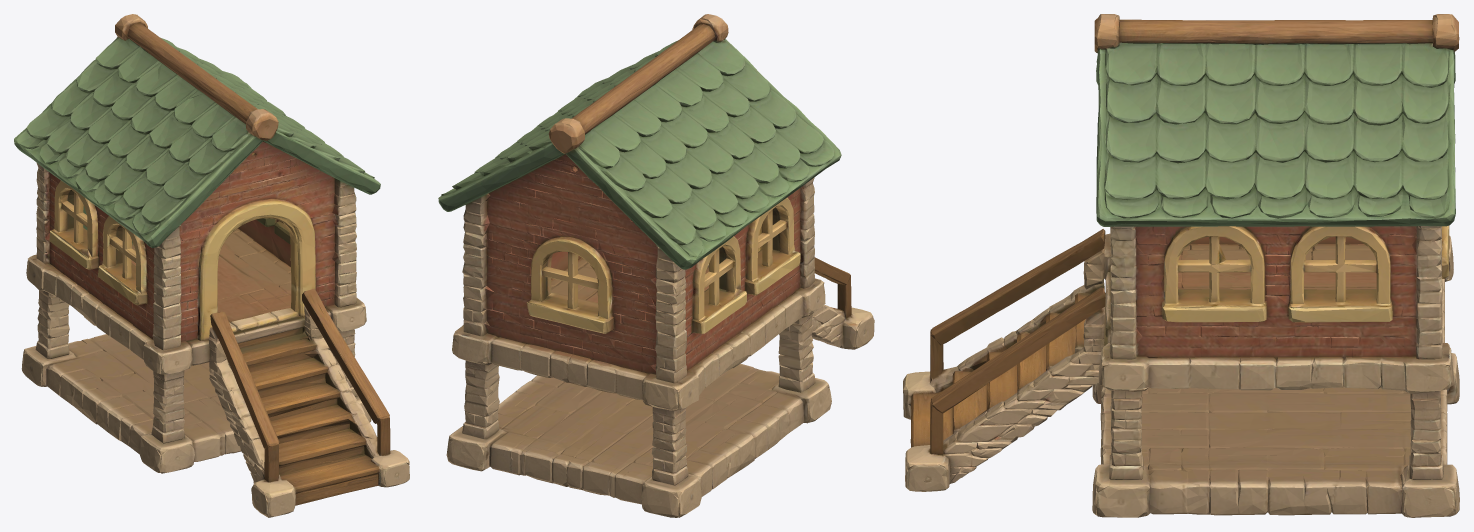
File: DOM_budka_6__base.glb
3 renders of one model, left to right at view 1: azimuth 30°, elevation 25°; view 2: azimuth 150°, elevation 25°; view 3: azimuth 270°, elevation 25°, orthographic. The views are drawn at different scales.
Parts seen in each view (by area): view 1: tripo_node_d380558d-4718-4dc9-ac0e-b7da3ad07488; view 2: tripo_node_d380558d-4718-4dc9-ac0e-b7da3ad07488; view 3: tripo_node_d380558d-4718-4dc9-ac0e-b7da3ad07488.
Part boxes in pixels (x1=…): tripo_node_d380558d-4718-4dc9-ac0e-b7da3ad07488: x1=14, y1=14, x2=409, y2=517; tripo_node_d380558d-4718-4dc9-ac0e-b7da3ad07488: x1=438, y1=14, x2=874, y2=517; tripo_node_d380558d-4718-4dc9-ac0e-b7da3ad07488: x1=903, y1=14, x2=1459, y2=517.
Size of the model in its own units: 0.6211 by 0.8444 by 0.9798.
Materials: 1 (1 with a texture image).
